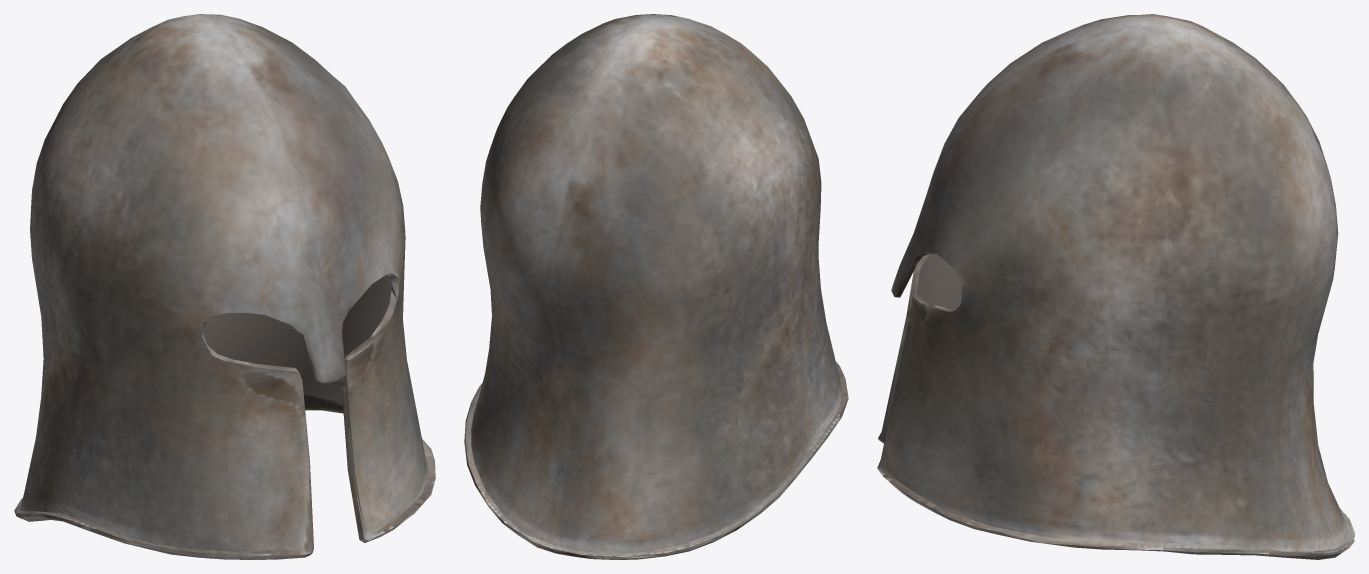
File: item_mm9_10119.glb
The picture shows the model from 3 angles, left to right: view 1: azimuth 30°, elevation 25°; view 2: azimuth 150°, elevation 25°; view 3: azimuth 270°, elevation 25°; orthographic projection. The views are drawn at different scales.
Parts seen in each view (by area): view 1: d10119; view 2: d10119; view 3: d10119.
Boxes of the visible parts, bbox=[...] form: d10119: bbox=[14, 14, 435, 559]; d10119: bbox=[464, 14, 848, 559]; d10119: bbox=[877, 14, 1354, 559].
Size of the model in its own units: 0.7256 by 1 by 0.8386.
Materials: 1 (1 with a texture image).
